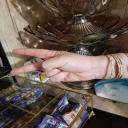PeaceSign: (9, 46, 98, 95)
